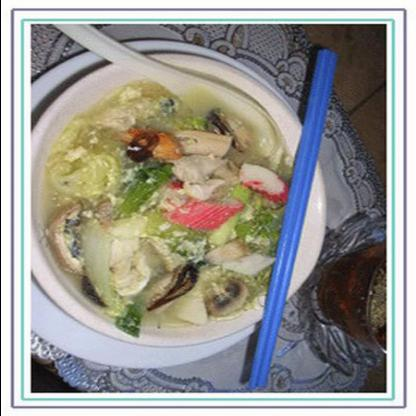Suki: (33, 75, 303, 337)
